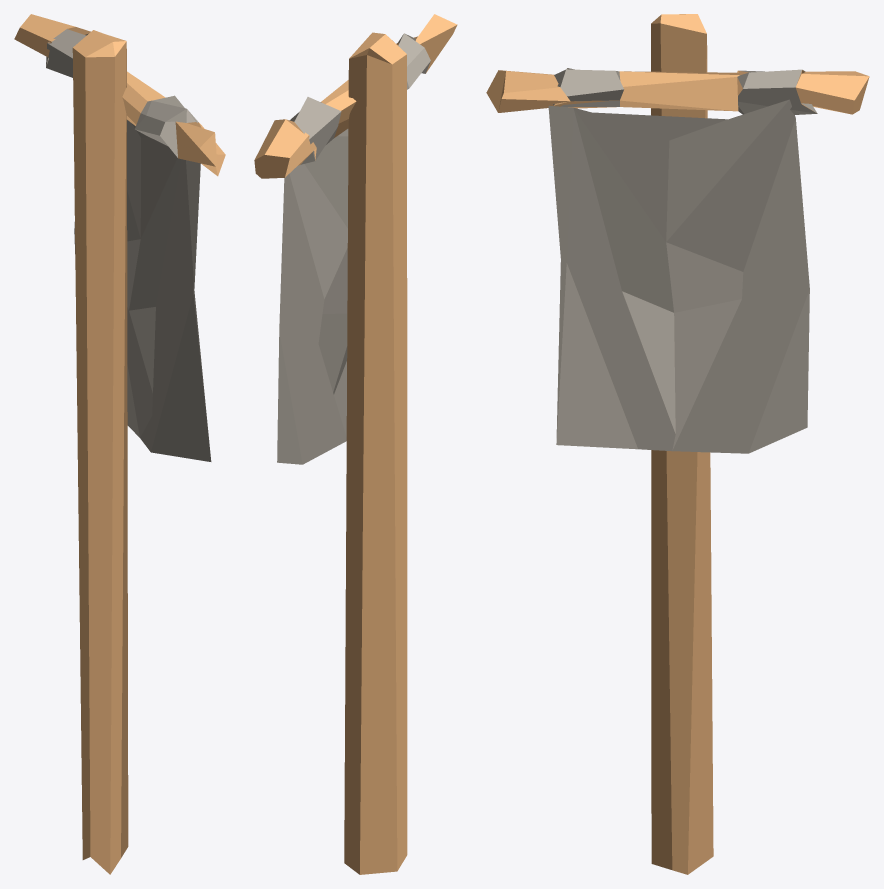
File: cc_banner_flag1.fbx
The picture shows the model from 3 angles, left to right: view 1: azimuth 30°, elevation 25°; view 2: azimuth 150°, elevation 25°; view 3: azimuth 270°, elevation 25°; orthographic projection. The views are drawn at different scales.
Visible parts, largest first — view 1: Cylinder; view 2: Cylinder; view 3: Cylinder.
Boxes of the visible parts, x1,y1,x2,y2 form: Cylinder: [14, 14, 225, 874]; Cylinder: [254, 14, 457, 874]; Cylinder: [486, 14, 869, 874].
Size of the model in its own units: 49.58 by 521 by 212.
